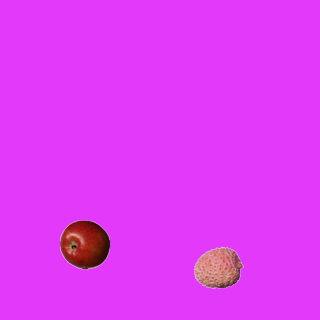Apple Braeburn: (59, 219, 109, 269)
Lychee: (193, 242, 243, 292)
